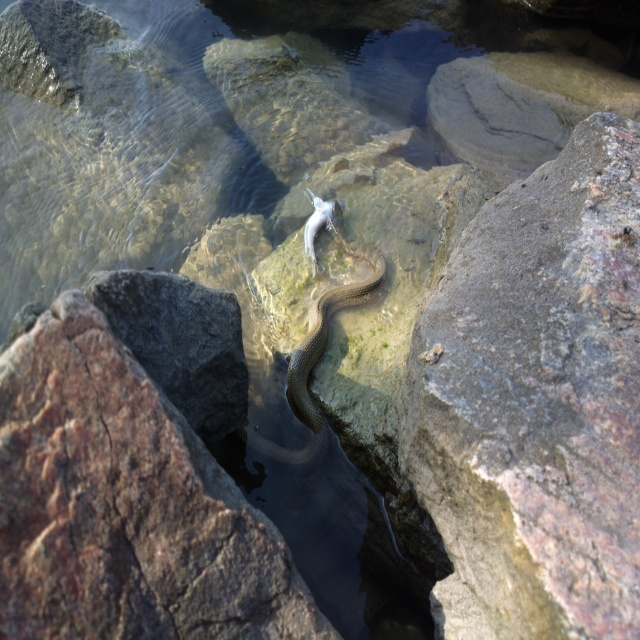Snake: (231, 197, 387, 471)
